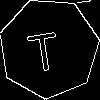T: (24, 23, 62, 73)
